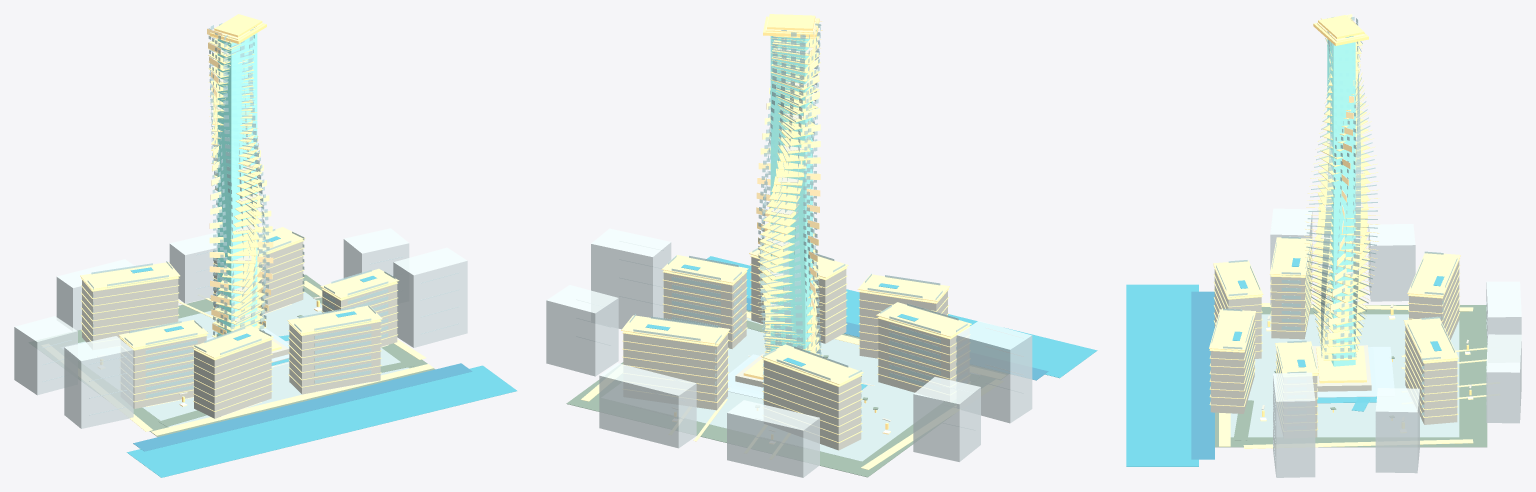
3 renders of one model, left to right at view 1: azimuth 30°, elevation 25°; view 2: azimuth 150°, elevation 25°; view 3: azimuth 270°, elevation 25°, orthographic. The views are drawn at different scales.
Parts seen in each view (by area): view 1: Rainbow Tel Aviv illustrative showroom massing; view 2: Rainbow Tel Aviv illustrative showroom massing; view 3: Rainbow Tel Aviv illustrative showroom massing.
Part boxes in pixels (x1,y1,x2,y2): Rainbow Tel Aviv illustrative showroom massing: (14, 14, 516, 477); Rainbow Tel Aviv illustrative showroom massing: (546, 14, 1097, 477); Rainbow Tel Aviv illustrative showroom massing: (1126, 14, 1521, 477).
Size of the model in its own units: 168 by 138 by 141.
